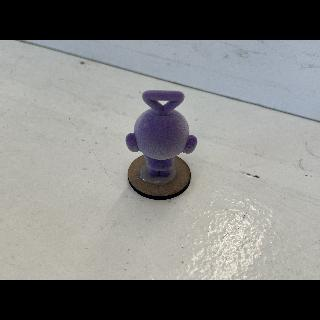teletubby: (125, 90, 197, 177)
